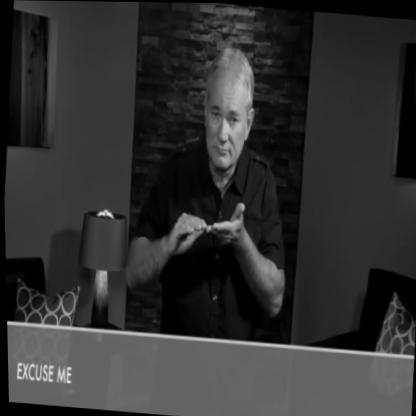ExcuseMe: (116, 31, 302, 337)
